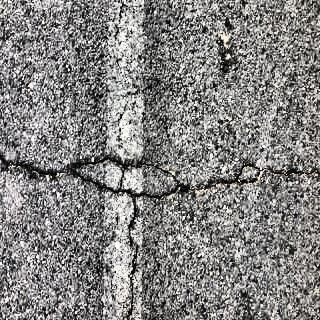alligator-crack: (69, 148, 263, 204)
crack: (1, 144, 63, 194), (124, 203, 146, 320), (264, 155, 320, 185)
